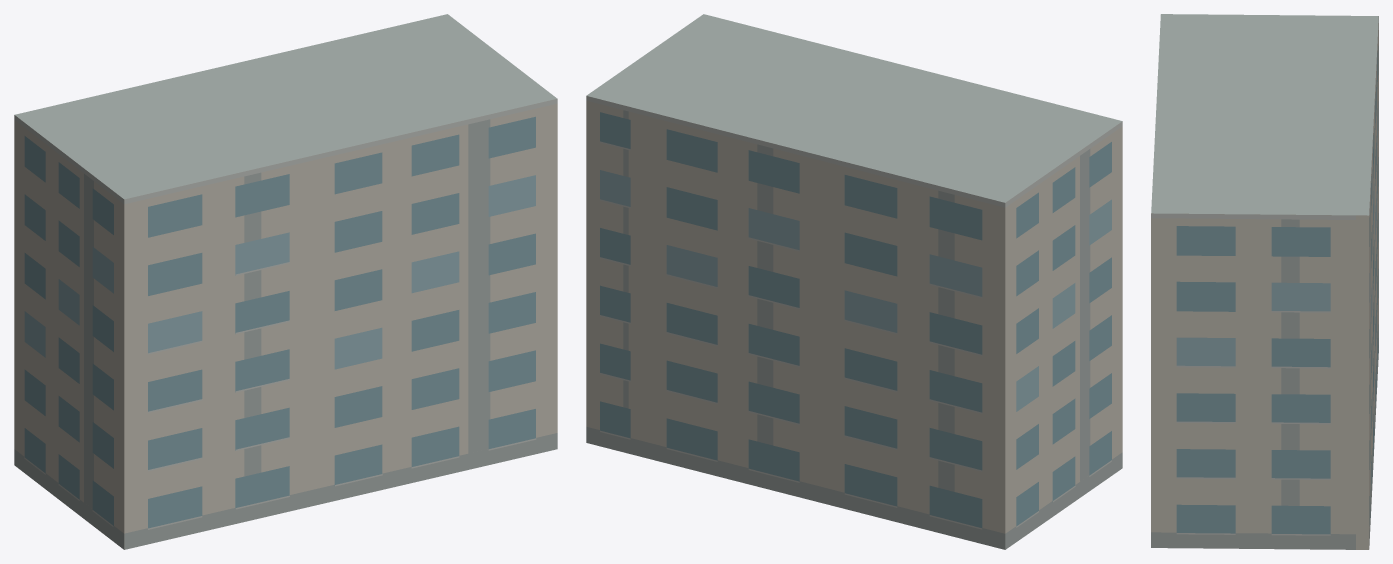
Rendered from survey-upis-32933271.glb.
3 views of the same model, side by side, from view 1: azimuth 30°, elevation 25°; view 2: azimuth 150°, elevation 25°; view 3: azimuth 270°, elevation 25° (orthographic). The views are drawn at different scales.
Parts seen in each view (by area): view 1: survey-upis-32933271.tmp; view 2: survey-upis-32933271.tmp; view 3: survey-upis-32933271.tmp.
Boxes of the visible parts, left/top/right/bottom form: survey-upis-32933271.tmp: left=14, top=14, right=557, bottom=549; survey-upis-32933271.tmp: left=586, top=14, right=1122, bottom=549; survey-upis-32933271.tmp: left=1151, top=14, right=1378, bottom=549.
Size of the model in its own units: 22.29 by 17.25 by 10.65.
